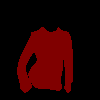felpa: (16, 26, 73, 93)
